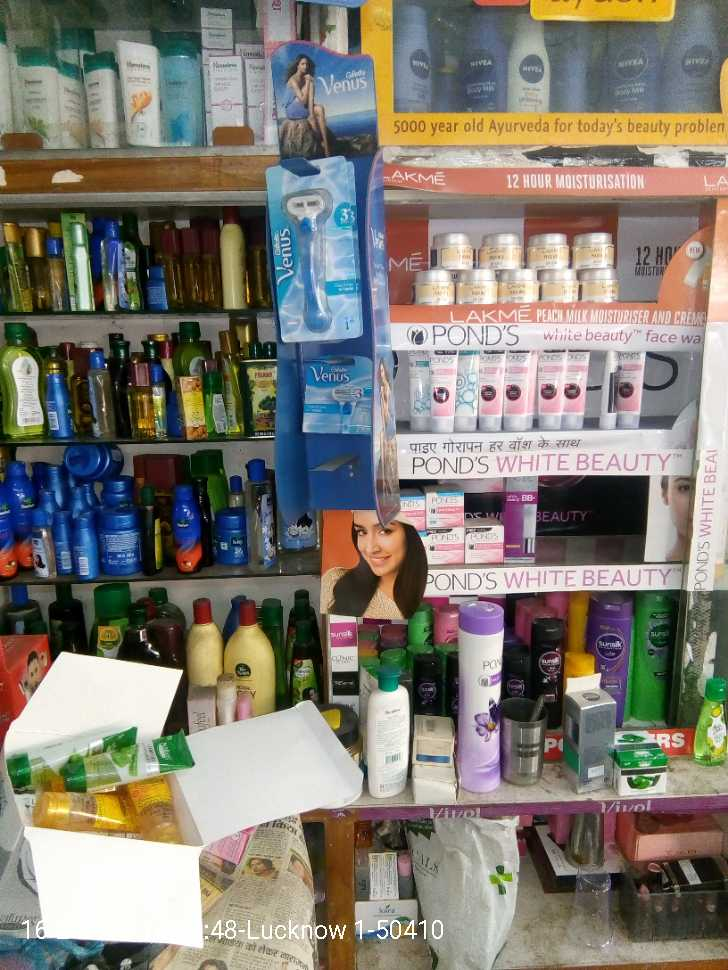venus: (283, 157, 359, 336), (296, 349, 374, 438)
